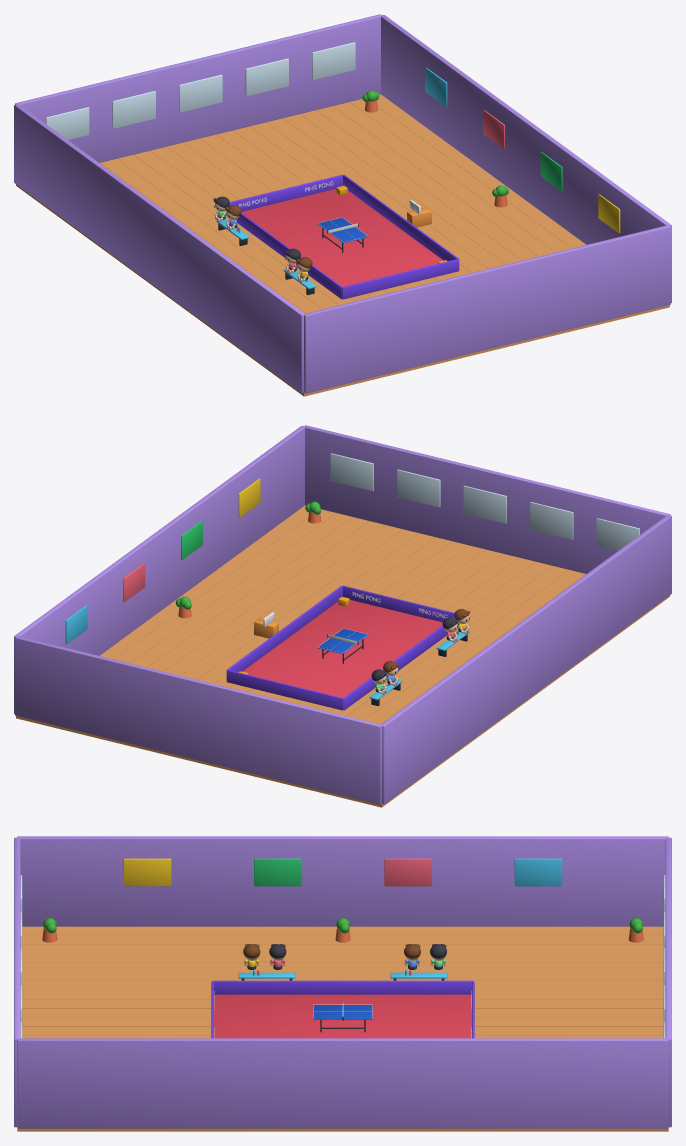
Rendered from tt_hall.glb.
The picture shows the model from 3 angles, top to bottom: view 1: azimuth 30°, elevation 25°; view 2: azimuth 150°, elevation 25°; view 3: azimuth 270°, elevation 25°; orthographic projection. The views are drawn at different scales.
Visible parts, largest first — view 1: tt_hall; view 2: tt_hall; view 3: tt_hall.
Part boxes in pixels (x1,y1,x2,y2): tt_hall: (14, 14, 671, 396); tt_hall: (14, 425, 671, 807); tt_hall: (14, 836, 671, 1131).
Size of the model in its own units: 22.3 by 4.7 by 30.3.
